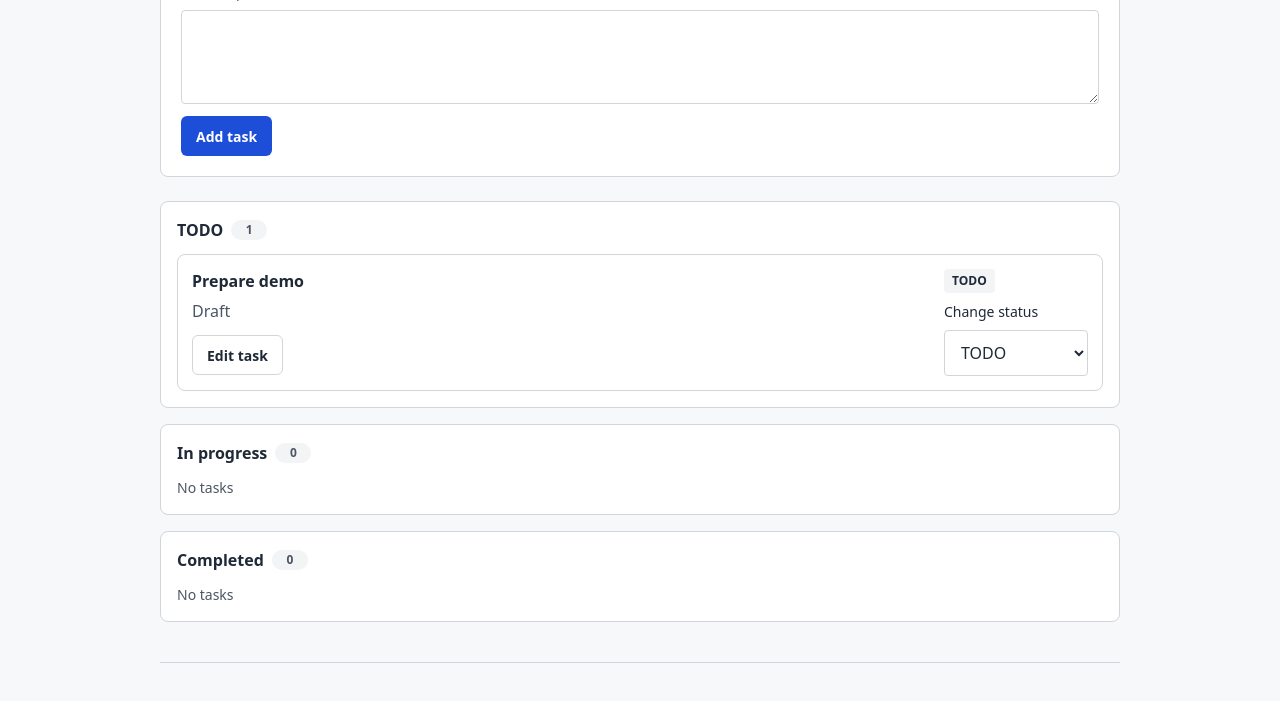
Test case: task dashboard › replaces title and notes, then refreshes the dashboard
(page scrolled)
Expected: the heading "Prepare demo" is shown, [192, 270, 304, 292]
Click the button "Edit task": point(237, 355) [192, 335, 283, 375]
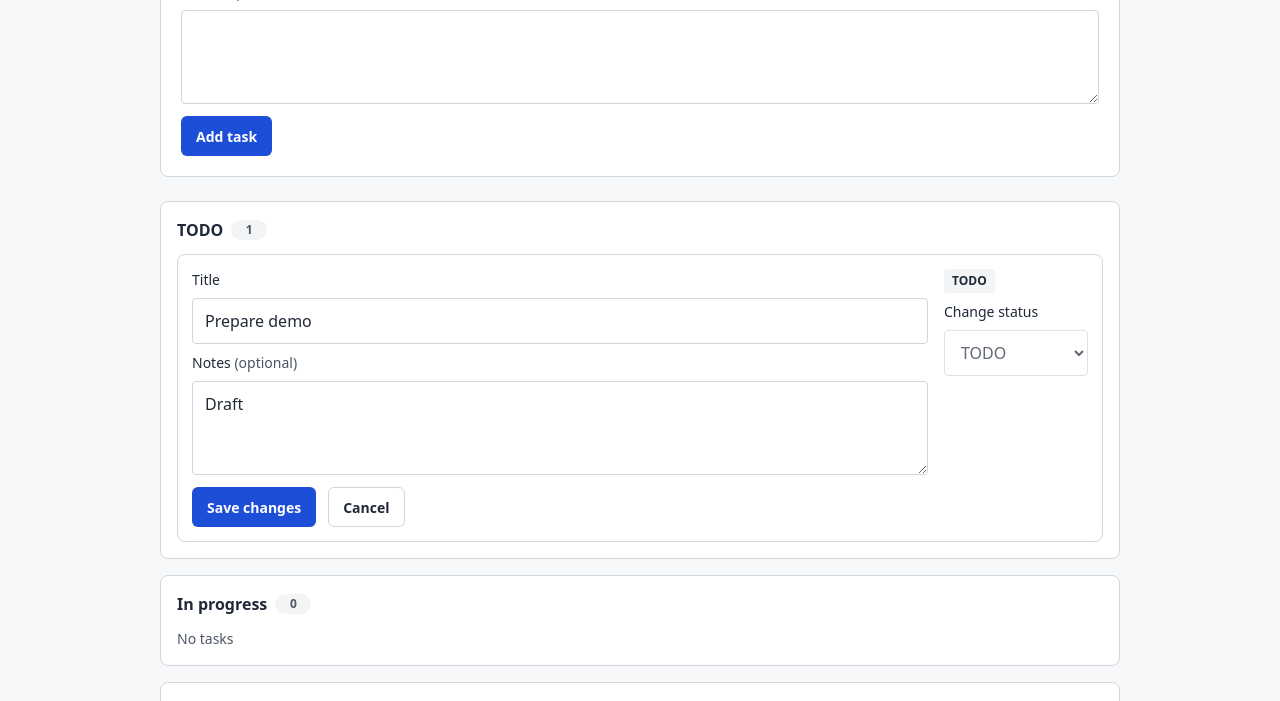
Replace the text in the field labelled "Title" with "Present demo": point(560, 321) [192, 298, 928, 344]
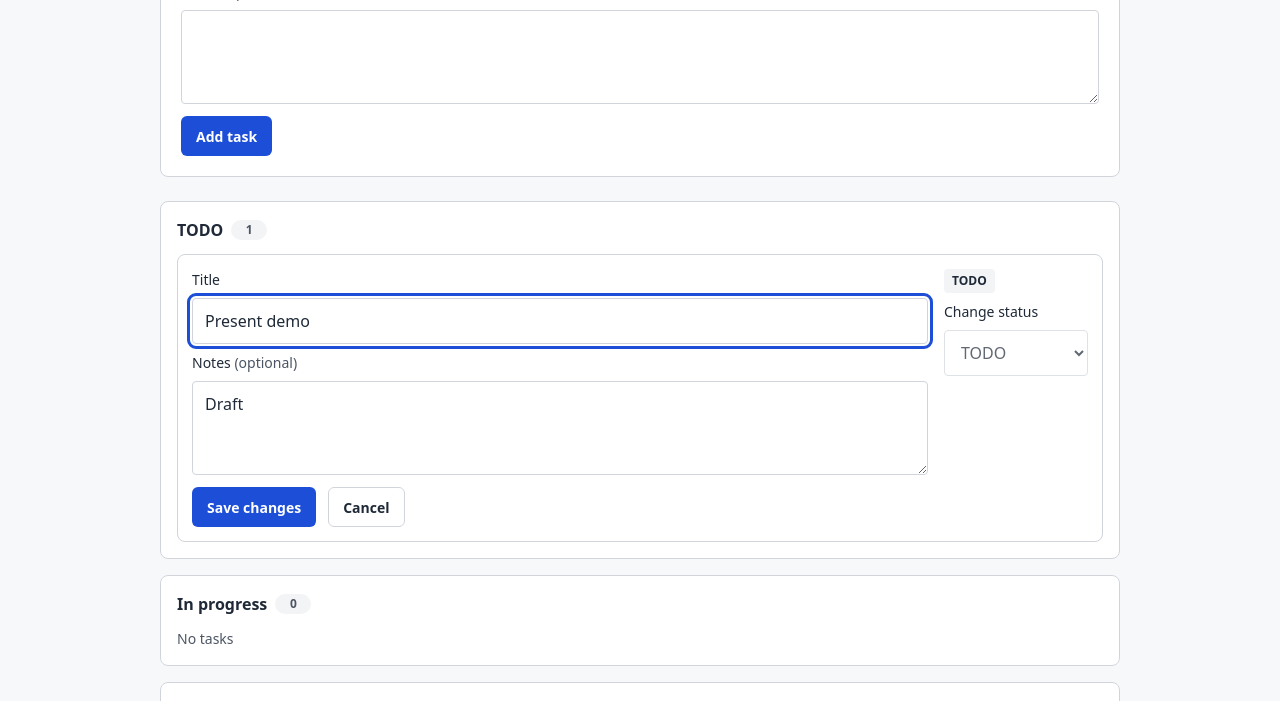
Replace the text in the text box labelled "Notes (optional)" below "Change status" with "Final slides": point(560, 428) [192, 381, 928, 475]
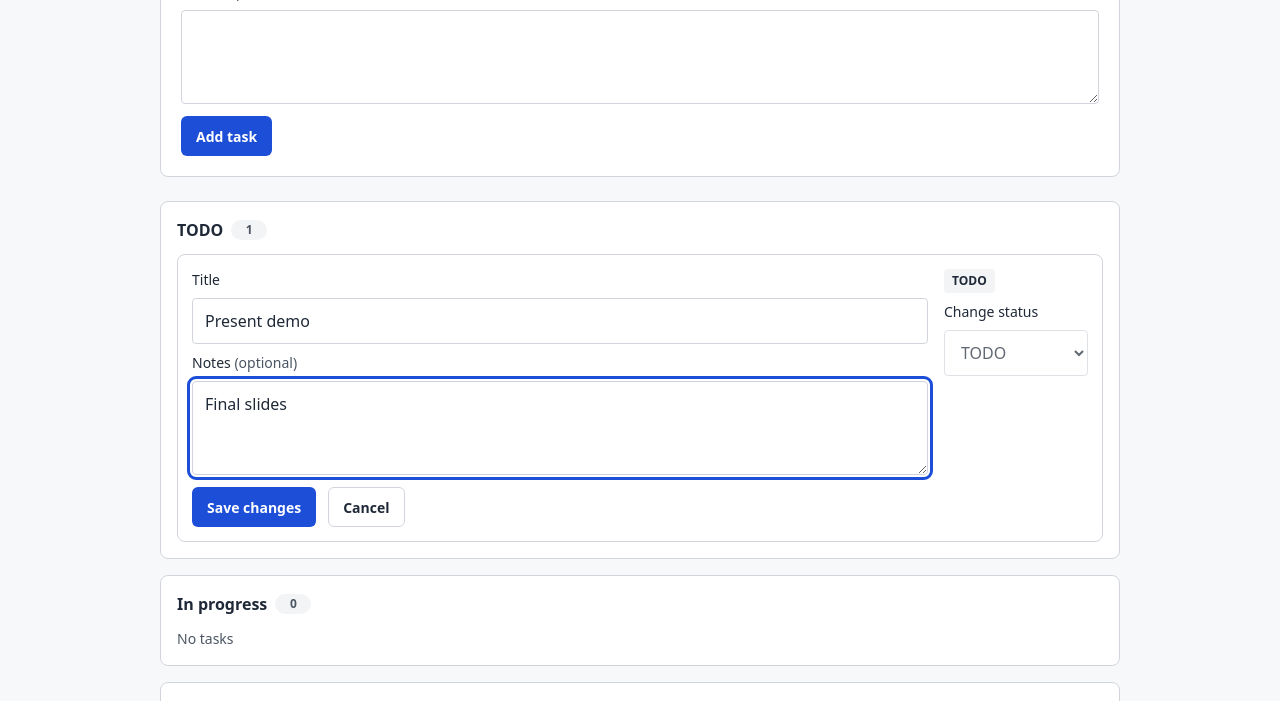
Click the button "Save changes": point(254, 507) [192, 487, 316, 527]
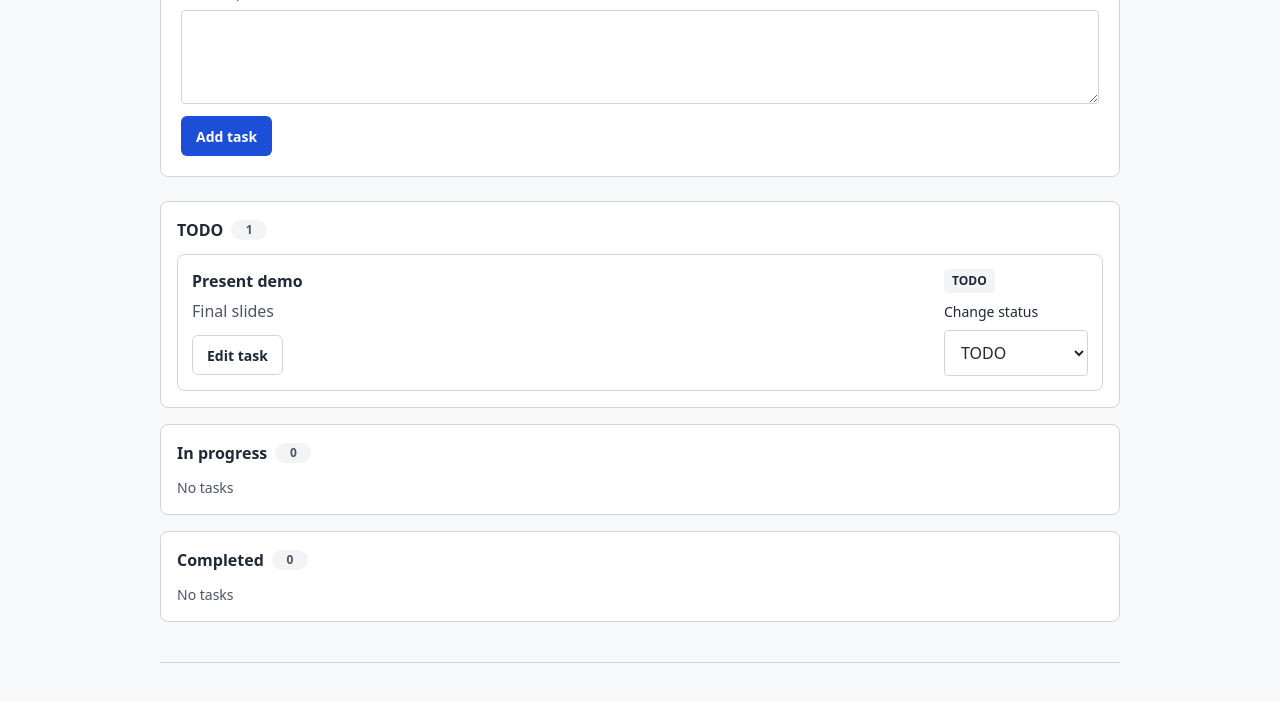
Expected: the heading "Present demo" is shown, [192, 270, 303, 292]
Expected: the text "Final slides" is shown, [192, 300, 274, 322]
